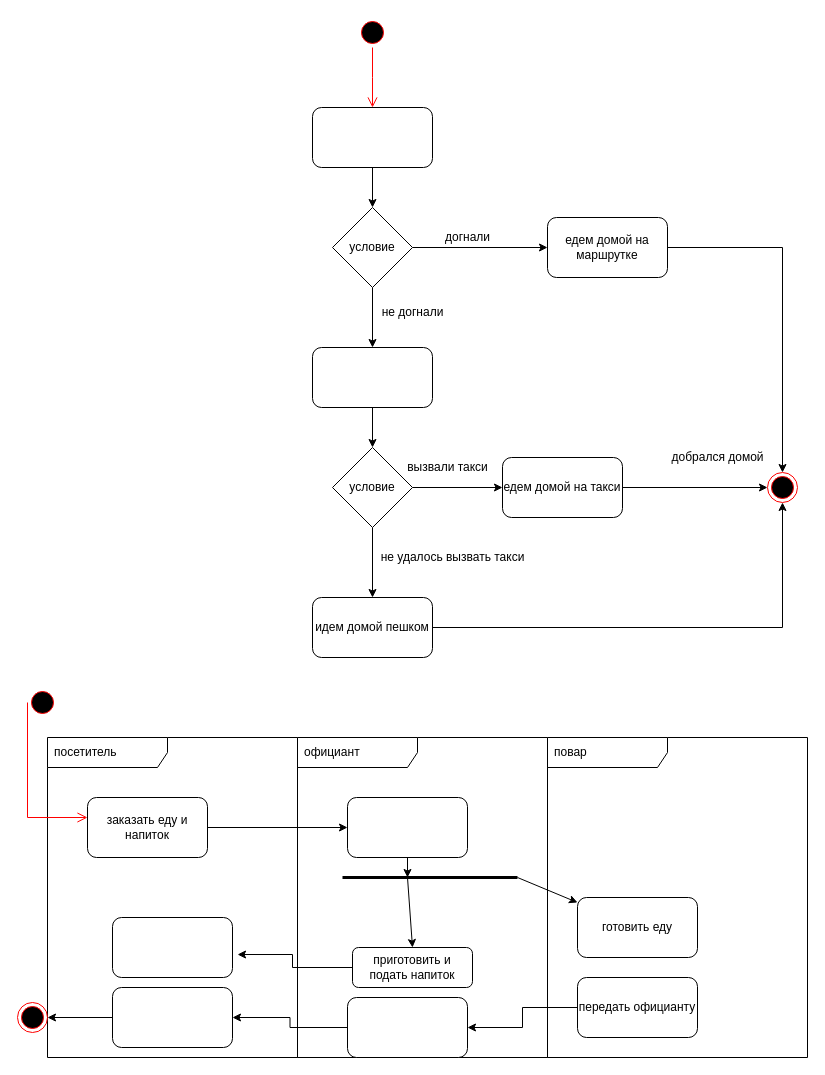
Image size: 825x1075. Some labels were removed from this diagram. Each missing label, with the centre of its shape:
бежим за маршруткой: pixel 372 137
вызываем такси: pixel 372 377
пить напиток: pixel 172 947
подать еду: pixel 407 1027
принять заказ: pixel 407 827
съесть еду: pixel 172 1017
